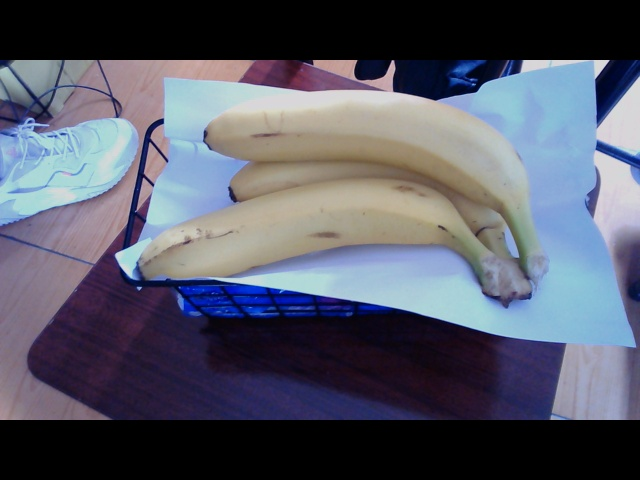banana: (119, 96, 561, 299)
